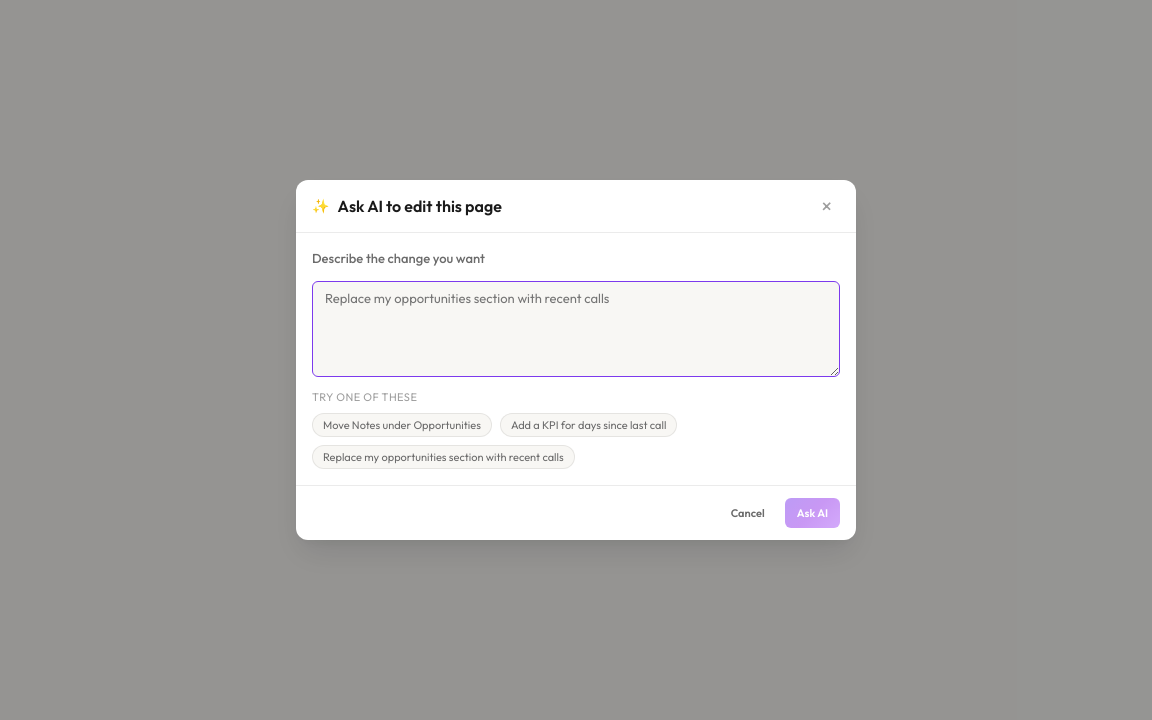
Test: AiPromptModal › disables submit until prompt is non-empty
This screenshot has width=1152, height=720.
Check: the button with test id "ai-prompt-submit" is disabled, box top-left (785, 498), bottom-right (840, 528)
Type "Move Notes" into the text box with test id "ai-prompt-textarea".
click(576, 328); type("Move Notes")  # box top-left (312, 280), bottom-right (840, 376)
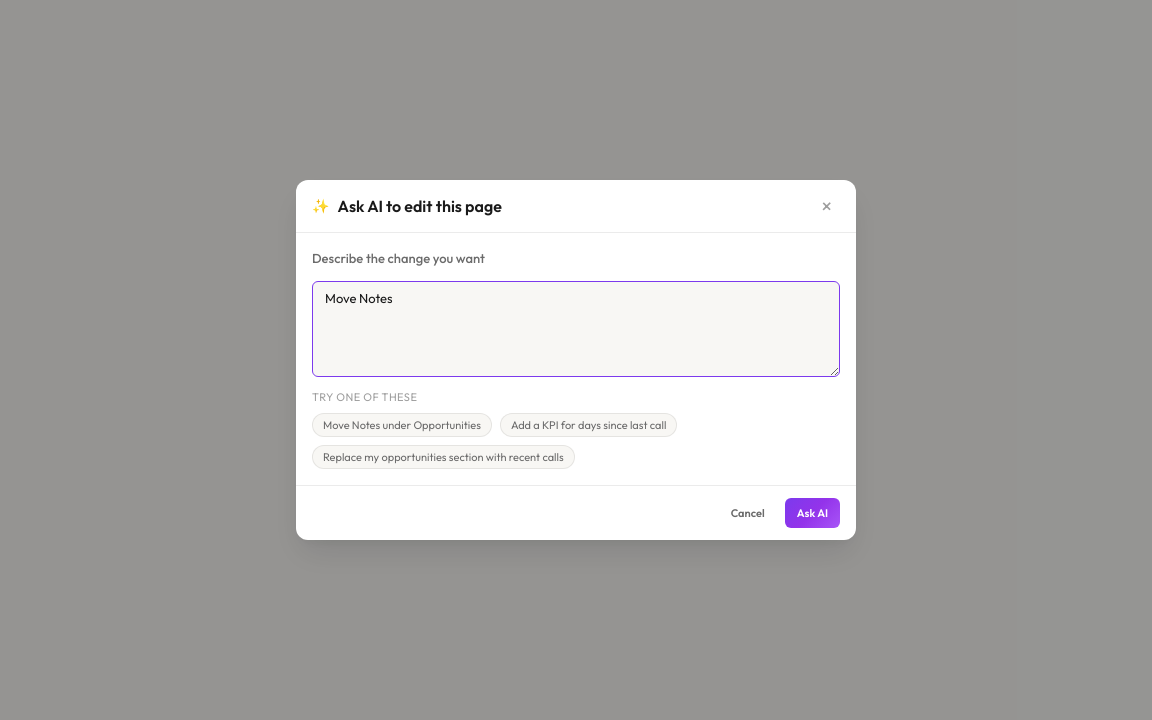
Check: the button with test id "ai-prompt-submit" is enabled, box top-left (785, 498), bottom-right (840, 528)
